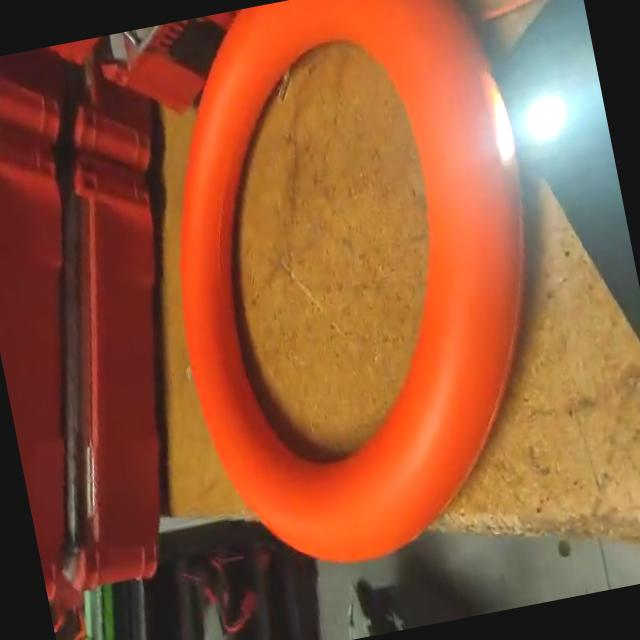note: (121, 0, 591, 591)
